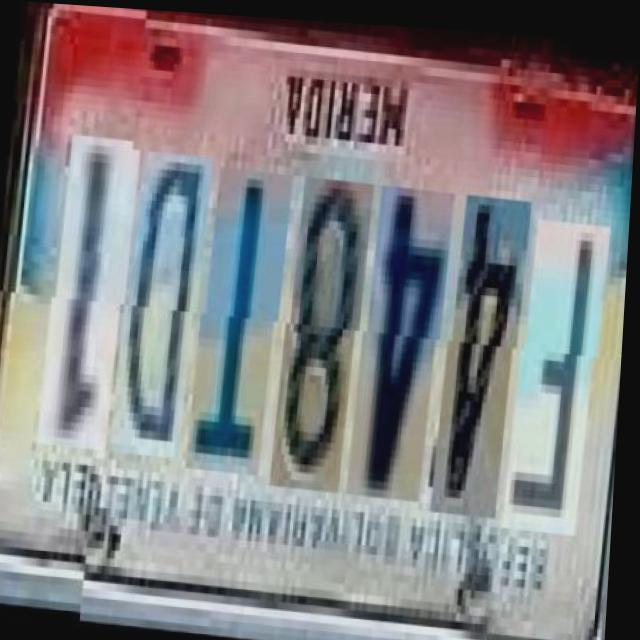1: (39, 146, 134, 462)
4: (350, 181, 449, 497), (435, 188, 526, 512)
8: (274, 175, 368, 491)
d: (113, 152, 207, 461)
f: (507, 204, 606, 520)
t: (189, 167, 287, 476)
